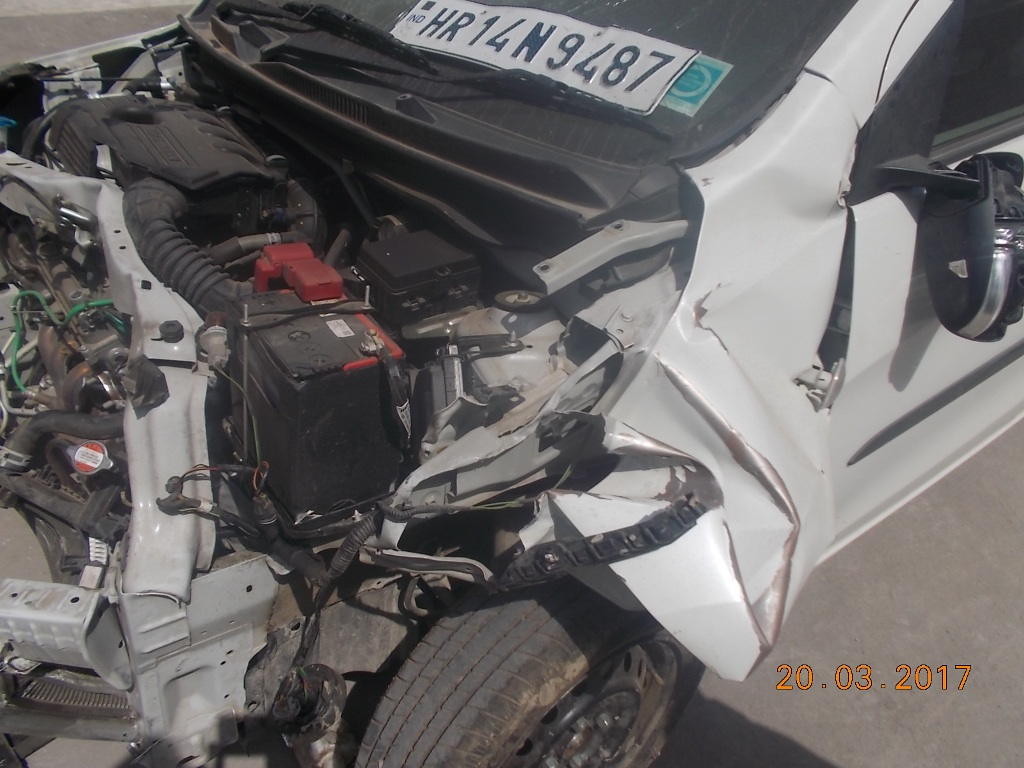Large_tear_or_damage: (5, 46, 809, 753)
